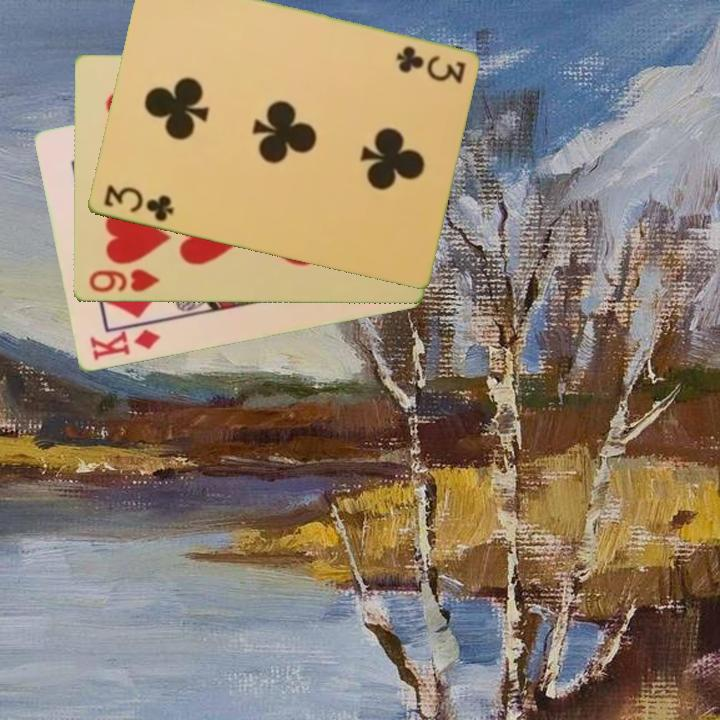3c: (100, 181, 176, 225), (392, 42, 469, 84)
9h: (85, 266, 161, 296)
Kd: (86, 326, 163, 364)
